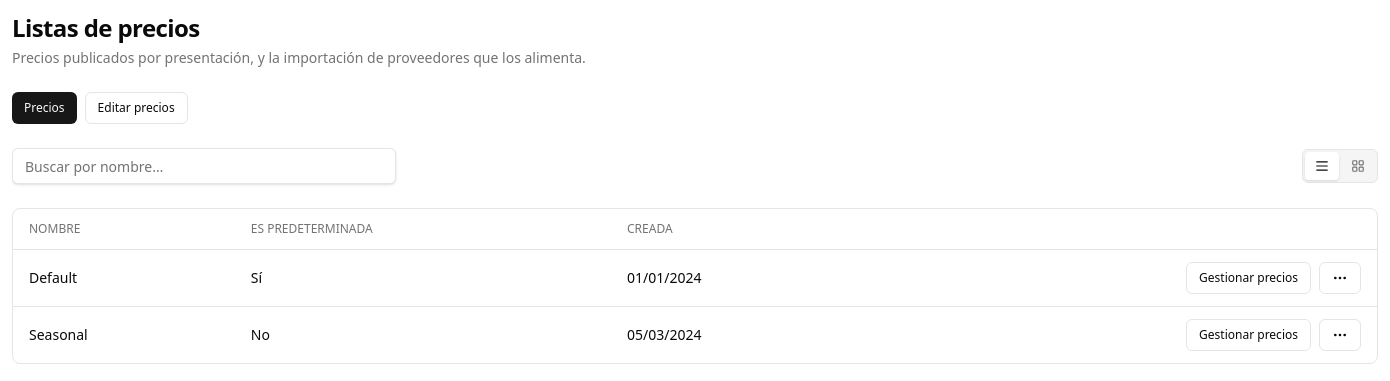
Test case: PriceListsScreen › shows a helpful empty state when the filter matches nothing
Expected: the text "Seasonal" is shown, [13,306,235,363]
Type "zzzz" into the search field named "buscar listas de precios" at {"x": 204, "y": 166}, box [12,148,396,184]
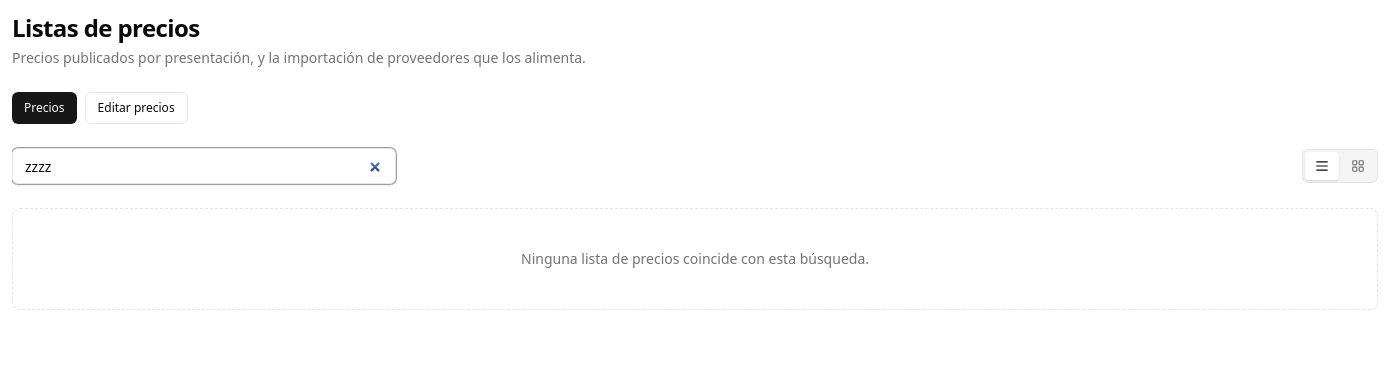
Result: the text "Ninguna lista de precios coincide con esta búsqueda." is shown at [12,208,1378,310]
Result: the table is gone
